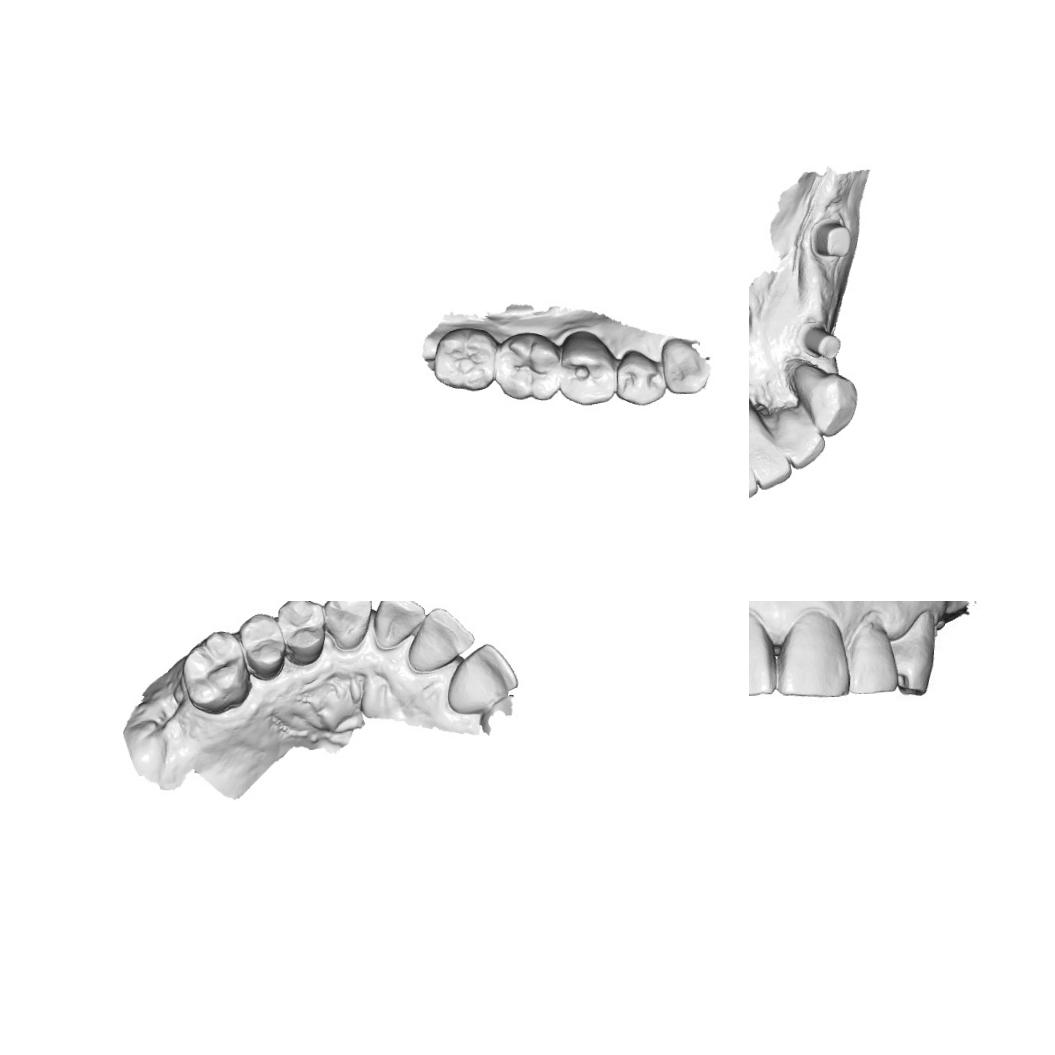abutment: (804, 212, 856, 265), (795, 319, 843, 363)
canine: (783, 354, 860, 439), (891, 608, 949, 704), (661, 336, 711, 396), (323, 601, 375, 651)
incisor: (774, 602, 849, 706), (444, 642, 520, 715), (407, 605, 477, 673), (844, 624, 898, 699), (771, 406, 827, 470), (750, 422, 794, 494), (749, 601, 776, 708), (370, 601, 427, 651), (749, 427, 760, 505)
molar: (180, 628, 253, 714), (494, 330, 562, 402), (432, 325, 499, 392)
premolar: (557, 328, 618, 408), (238, 610, 286, 682), (276, 601, 327, 667), (615, 348, 666, 407)
